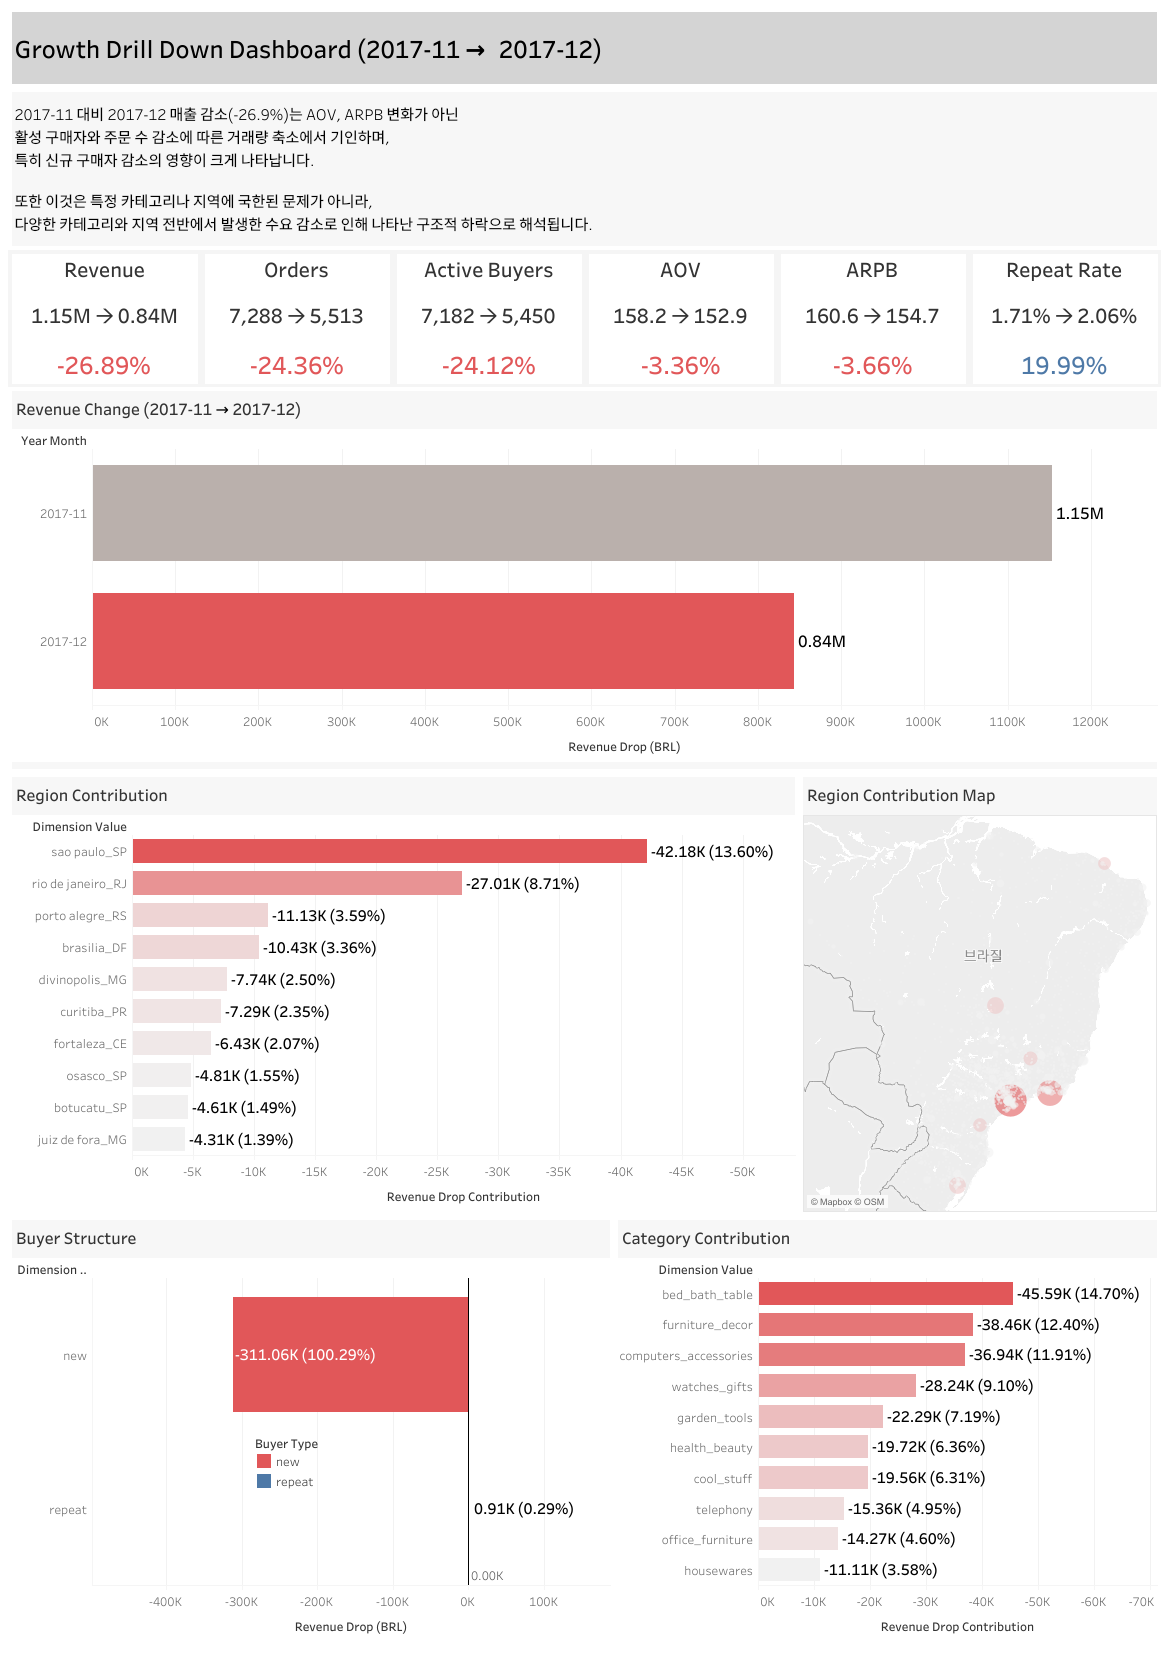

What the dashboard file says about the page in this screenshot:
{"tool":"tableau","page":{"name":"Growth Drill Down Dashboard","canvas":[1169,1654],"ordinal":1},"visuals":[{"type":"text","box":[8,8,1153,80]},{"type":"text","box":[8,88,1153,162]},{"type":"worksheet","title":"GD_KPI Revenue","mark":"Automatic","box":[8,250,193,137]},{"type":"worksheet","title":"GD_KPI Orders","mark":"Automatic","box":[201,250,192,137]},{"type":"worksheet","title":"GD_KPI Buyers","mark":"Automatic","box":[393,250,192,137]},{"type":"worksheet","title":"GD_KPI AOV","mark":"Automatic","box":[585,250,192,137]},{"type":"worksheet","title":"GD_KPI ARPB","mark":"Automatic","box":[777,250,192,137]},{"type":"worksheet","title":"GD_KPI Repeat Rate","mark":"Automatic","box":[969,250,192,137]},{"type":"worksheet","title":"GD_Revenue Drop","mark":"Automatic","rows":["year_month"],"cols":["gross_revenue"],"box":[8,387,1153,386]},{"type":"worksheet","title":"GD_Region Contribution","mark":"Automatic","rows":["dimension_value"],"cols":["Calculation_928023047204483103"],"box":[8,773,791,443]},{"type":"worksheet","title":"GD_Region Contribution Map","mark":"Automatic","box":[799,773,362,443]},{"type":"worksheet","title":"GD_Buyer Structure","mark":"Automatic","rows":["dimension_value"],"cols":["Calculation_928023047204483103"],"box":[8,1216,606,430]},{"type":"worksheet","title":"GD_Category Contribution","mark":"Automatic","rows":["dimension_value"],"cols":["Calculation_928023047204483103"],"box":[614,1216,547,430]},{"type":"legend","title":"GD_Buyer Structure","param":"[federated.1d4g22y0r259ig11euva91l0j0v7].[none:buyer_type:nk]","box":[254,1432,140,58]}]}

Visuals, with their boxes in screenshot pixels (x1, y1, x2, y2), scaled from the page's 1169x1654 canvas onto the 1168x1653 screenshot:
text: [x1=8, y1=8, x2=1160, y2=88]
text: [x1=8, y1=88, x2=1160, y2=250]
"GD_KPI Revenue" worksheet: [x1=8, y1=250, x2=201, y2=387]
"GD_KPI Orders" worksheet: [x1=201, y1=250, x2=393, y2=387]
"GD_KPI Buyers" worksheet: [x1=393, y1=250, x2=584, y2=387]
"GD_KPI AOV" worksheet: [x1=584, y1=250, x2=776, y2=387]
"GD_KPI ARPB" worksheet: [x1=776, y1=250, x2=968, y2=387]
"GD_KPI Repeat Rate" worksheet: [x1=968, y1=250, x2=1160, y2=387]
"GD_Revenue Drop" worksheet: [x1=8, y1=387, x2=1160, y2=773]
"GD_Region Contribution" worksheet: [x1=8, y1=773, x2=798, y2=1215]
"GD_Region Contribution Map" worksheet: [x1=798, y1=773, x2=1160, y2=1215]
"GD_Buyer Structure" worksheet: [x1=8, y1=1215, x2=613, y2=1645]
"GD_Category Contribution" worksheet: [x1=613, y1=1215, x2=1160, y2=1645]
"GD_Buyer Structure" legend: [x1=254, y1=1431, x2=394, y2=1489]
